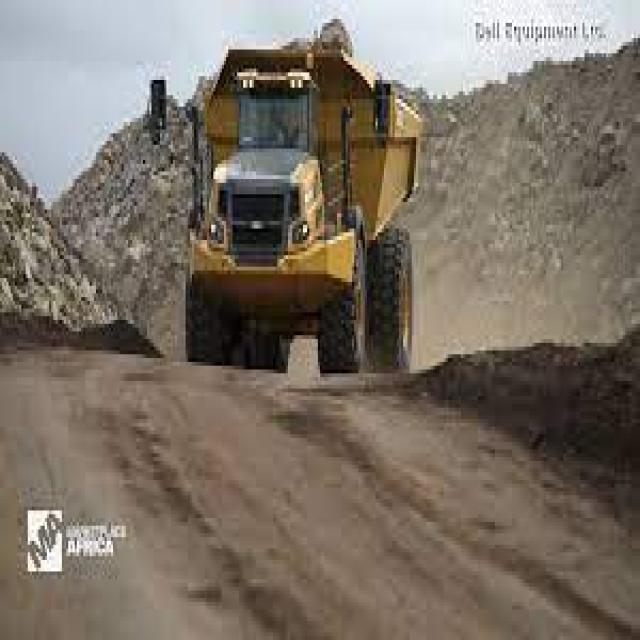dump_truck: (145, 23, 427, 385)
